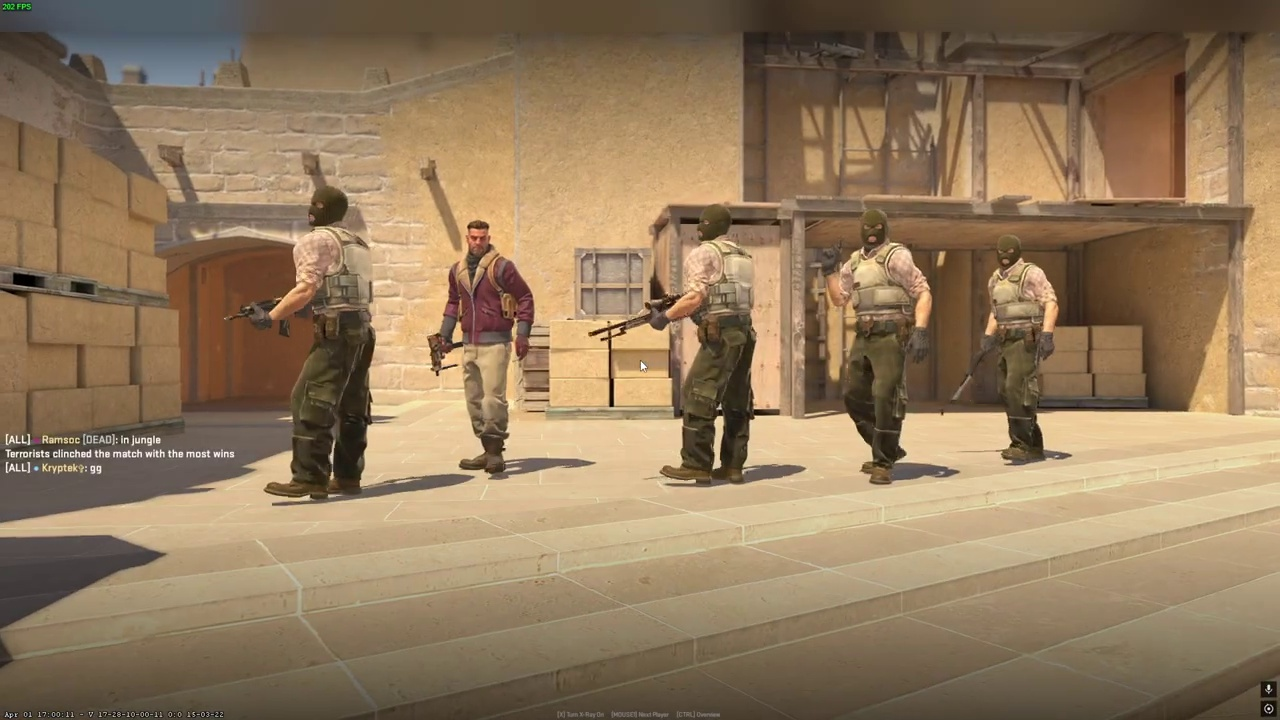Terrorist: (266, 185, 376, 500), (823, 208, 931, 484), (651, 204, 757, 485), (429, 220, 534, 474), (973, 234, 1059, 462)
